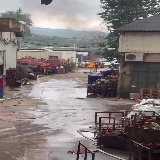fire: (87, 63, 95, 67)
